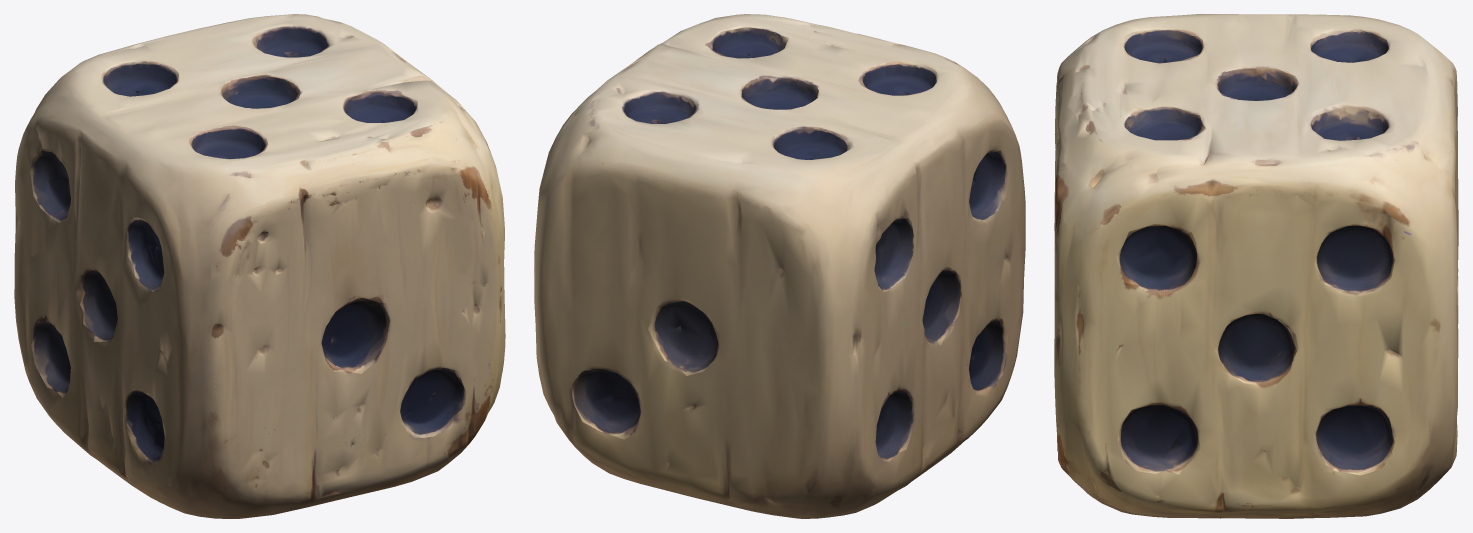
The model's file is die.glb.
The picture shows the model from 3 angles, left to right: view 1: azimuth 30°, elevation 25°; view 2: azimuth 150°, elevation 25°; view 3: azimuth 270°, elevation 25°; orthographic projection. The views are drawn at different scales.
Parts seen in each view (by area): view 1: tripo_part_0, tripo_part_15, tripo_part_1, tripo_part_17, tripo_part_11, tripo_part_4, tripo_part_21, tripo_part_5, tripo_part_20, tripo_part_6, tripo_part_2, tripo_part_10; view 2: tripo_part_0, tripo_part_3, tripo_part_18, tripo_part_17, tripo_part_20, tripo_part_4, tripo_part_11, tripo_part_21, tripo_part_2, tripo_part_5, tripo_part_6, tripo_part_10; view 3: tripo_part_0, tripo_part_13, tripo_part_12, tripo_part_7, tripo_part_9, tripo_part_8, tripo_part_4, tripo_part_2, tripo_part_10, tripo_part_11.
Part boxes in pixels (bbox=[...]): tripo_part_0: bbox=[14, 14, 505, 518]; tripo_part_15: bbox=[321, 297, 390, 373]; tripo_part_1: bbox=[400, 367, 465, 437]; tripo_part_17: bbox=[30, 149, 71, 222]; tripo_part_11: bbox=[102, 61, 179, 96]; tripo_part_4: bbox=[219, 76, 300, 108]; tripo_part_21: bbox=[31, 320, 70, 398]; tripo_part_5: bbox=[123, 390, 164, 463]; tripo_part_20: bbox=[79, 269, 117, 341]; tripo_part_6: bbox=[126, 217, 164, 291]; tripo_part_2: bbox=[191, 126, 268, 159]; tripo_part_10: bbox=[343, 89, 417, 122]; tripo_part_0: bbox=[534, 14, 1025, 518]; tripo_part_3: bbox=[648, 297, 719, 375]; tripo_part_18: bbox=[572, 369, 641, 439]; tripo_part_17: bbox=[874, 217, 914, 291]; tripo_part_20: bbox=[922, 270, 961, 345]; tripo_part_4: bbox=[741, 75, 818, 109]; tripo_part_11: bbox=[772, 127, 852, 159]; tripo_part_21: bbox=[875, 391, 915, 462]; tripo_part_2: bbox=[862, 62, 936, 95]; tripo_part_5: bbox=[968, 319, 1006, 390]; tripo_part_6: bbox=[969, 150, 1007, 221]; tripo_part_10: bbox=[711, 27, 789, 58]; tripo_part_0: bbox=[1054, 14, 1458, 518]; tripo_part_13: bbox=[1118, 404, 1200, 474]; tripo_part_12: bbox=[1314, 404, 1394, 475]; tripo_part_7: bbox=[1216, 313, 1298, 384]; tripo_part_9: bbox=[1116, 224, 1197, 298]; tripo_part_8: bbox=[1315, 225, 1394, 293]; tripo_part_4: bbox=[1217, 66, 1299, 100]; tripo_part_2: bbox=[1121, 28, 1203, 63]; tripo_part_10: bbox=[1125, 106, 1206, 140]; tripo_part_11: bbox=[1310, 28, 1388, 62].
Size of the model in its own units: 0.9585 by 0.9792 by 0.9741.
Materials: 22 (22 with a texture image).
